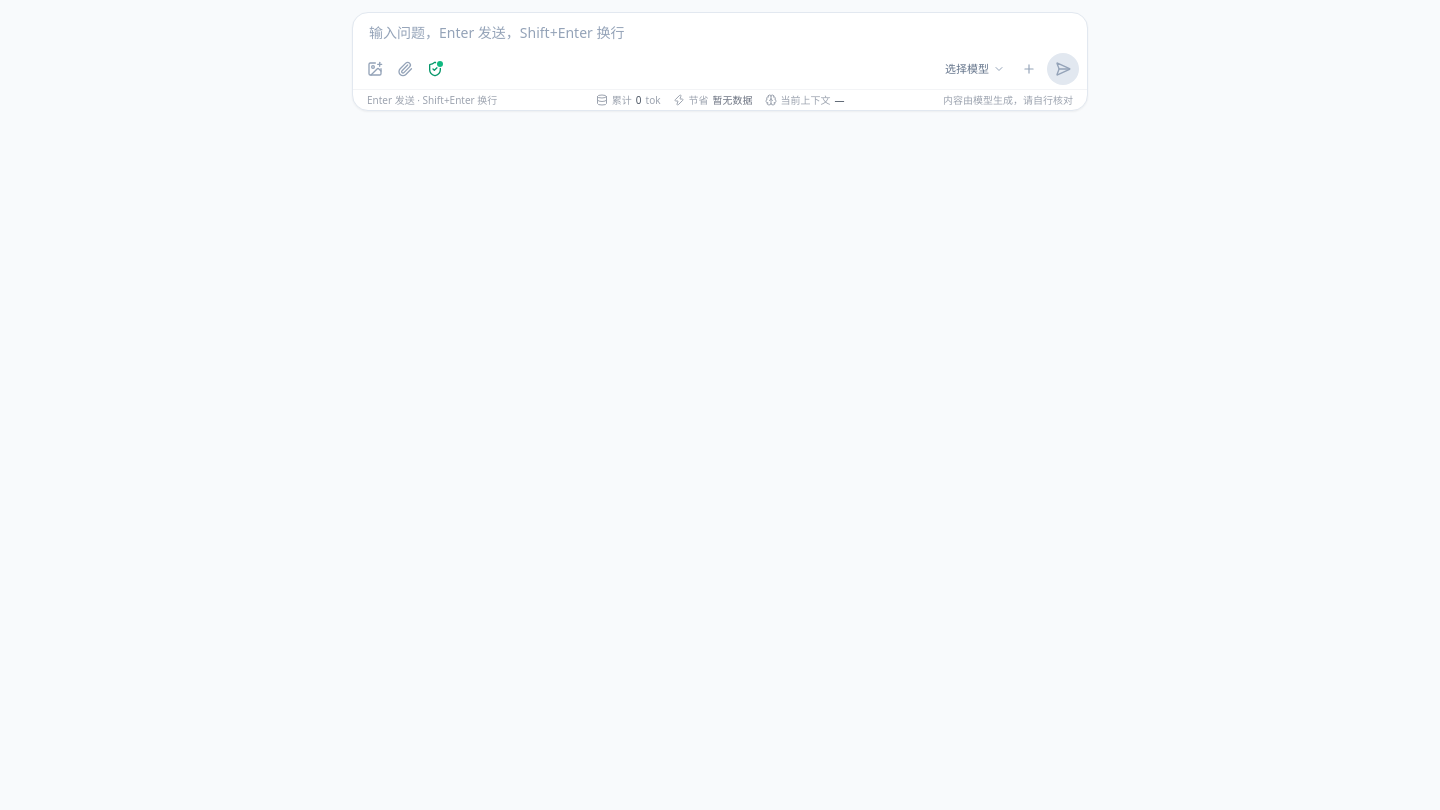
Test case: 目录选择器（点击浏览代替手打路径） › 逐级进入目录并「选择此文件夹」后回填到输入框
Click the button with test id "sandbox-badge". click: point(435, 69)
box: [421,55,449,83]
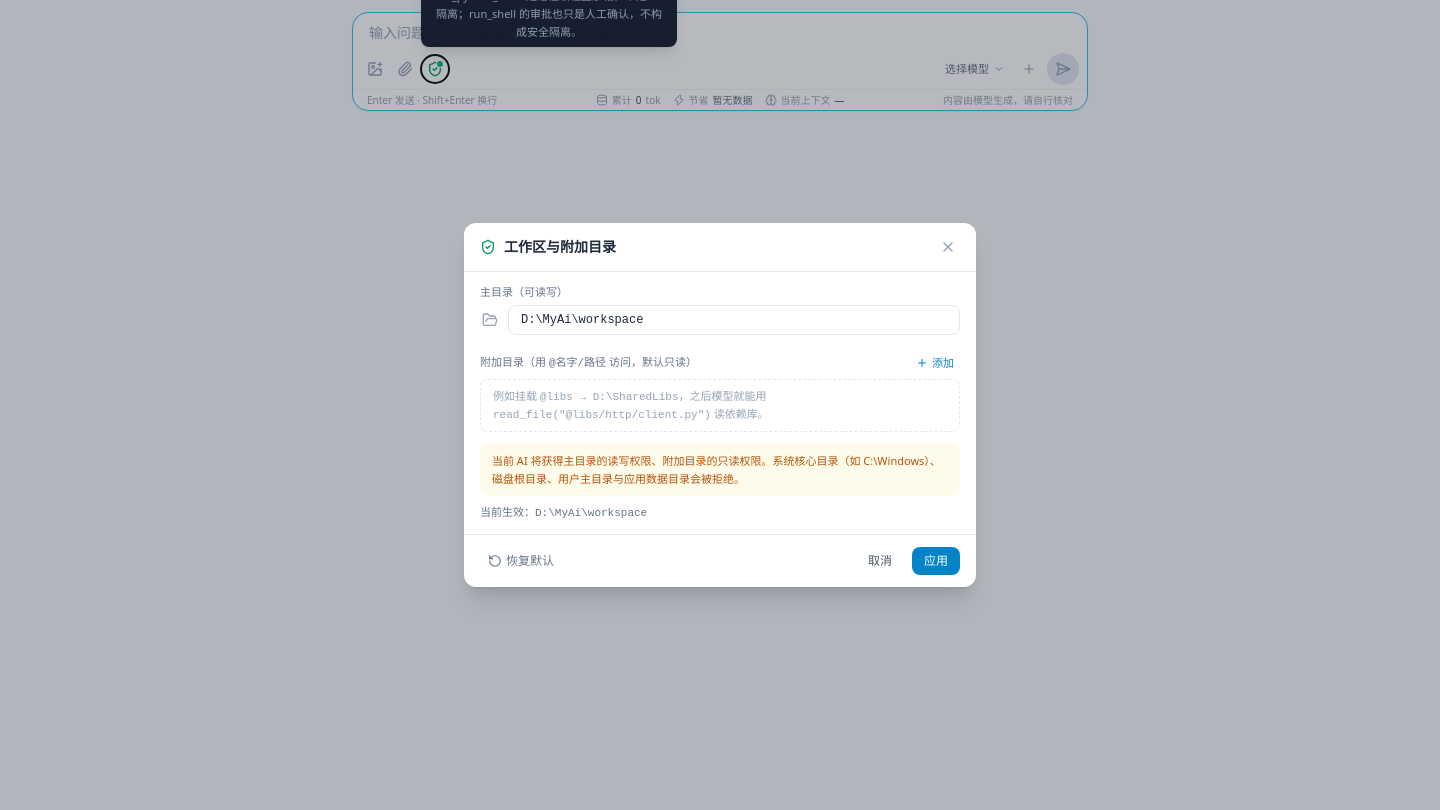
Click the button named "浏览选择主目录". click: point(490, 320)
box: [480,310,500,330]
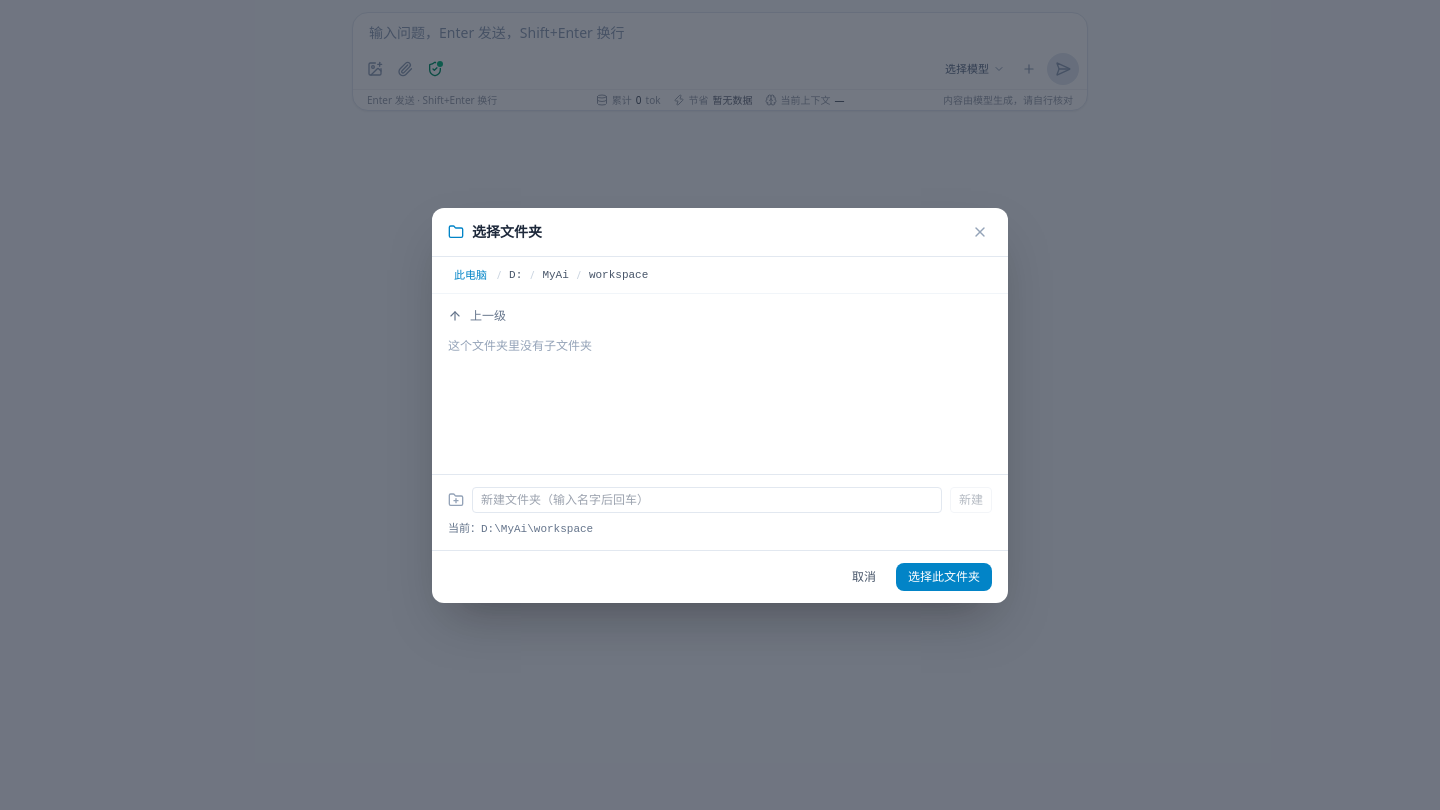
Click the button "此电脑". click: point(470, 275)
box: [448,264,493,285]
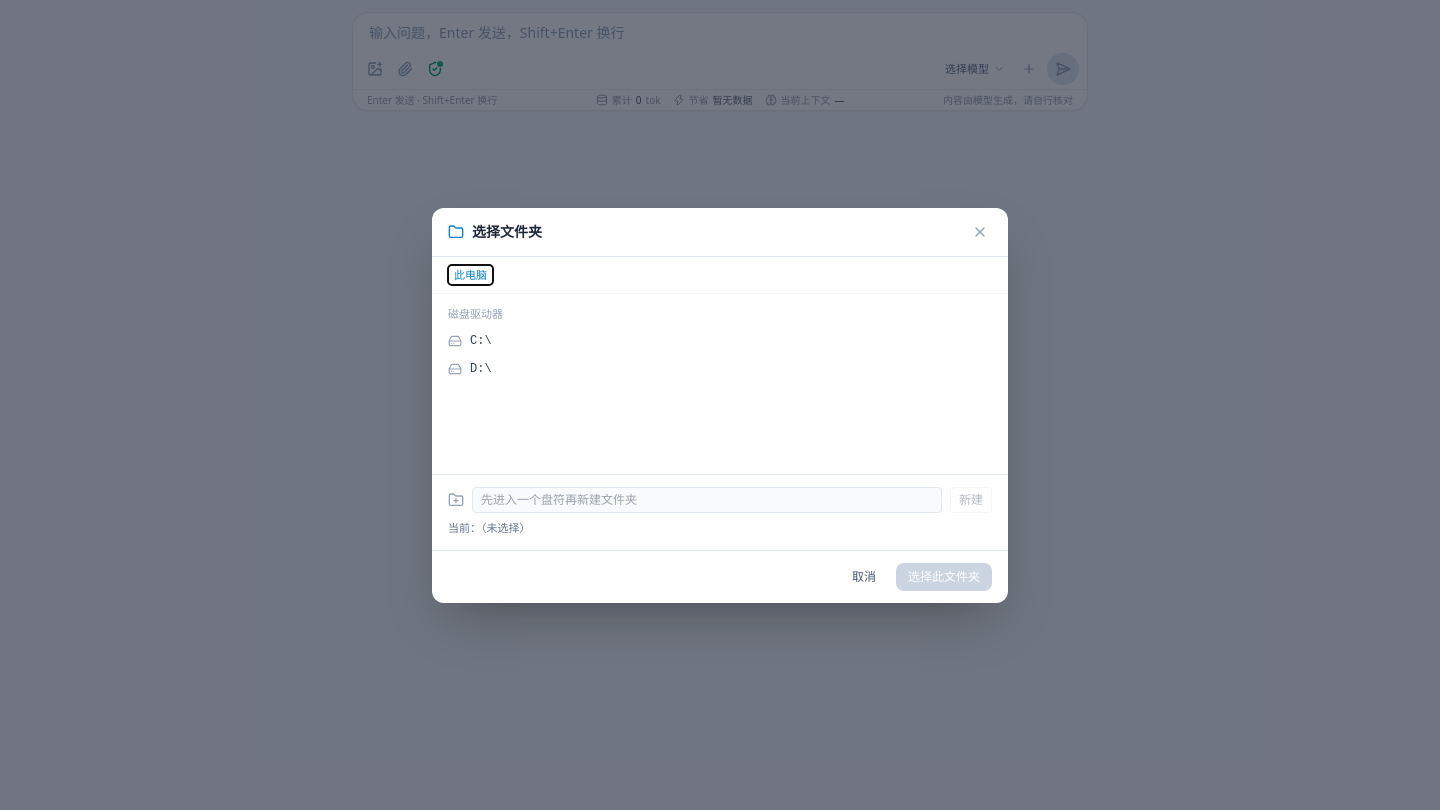
Click the button "D:\\". click: point(455, 368)
box: [440,354,1000,382]
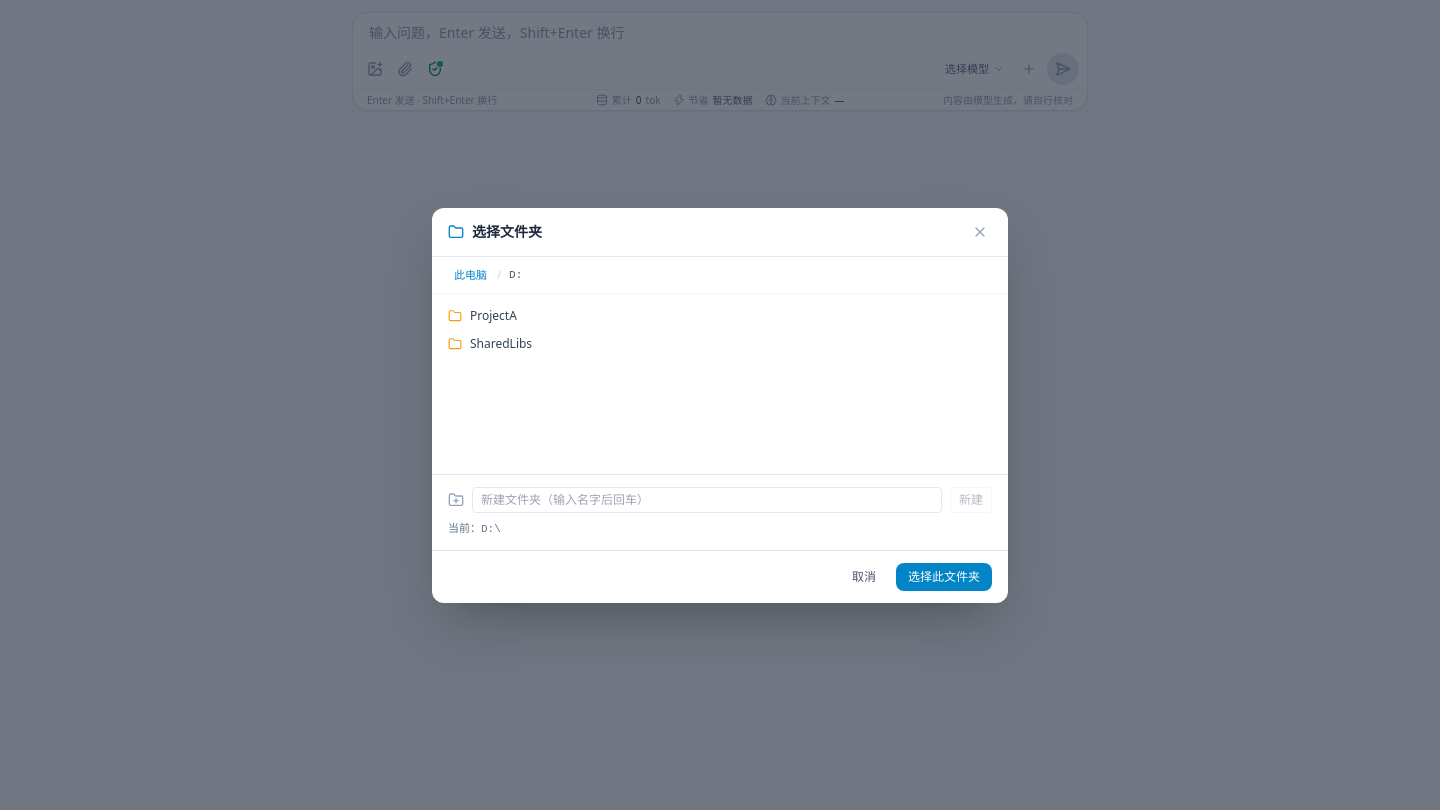
Click the button "ProjectA". click: point(493, 316)
box: [440,302,1000,330]
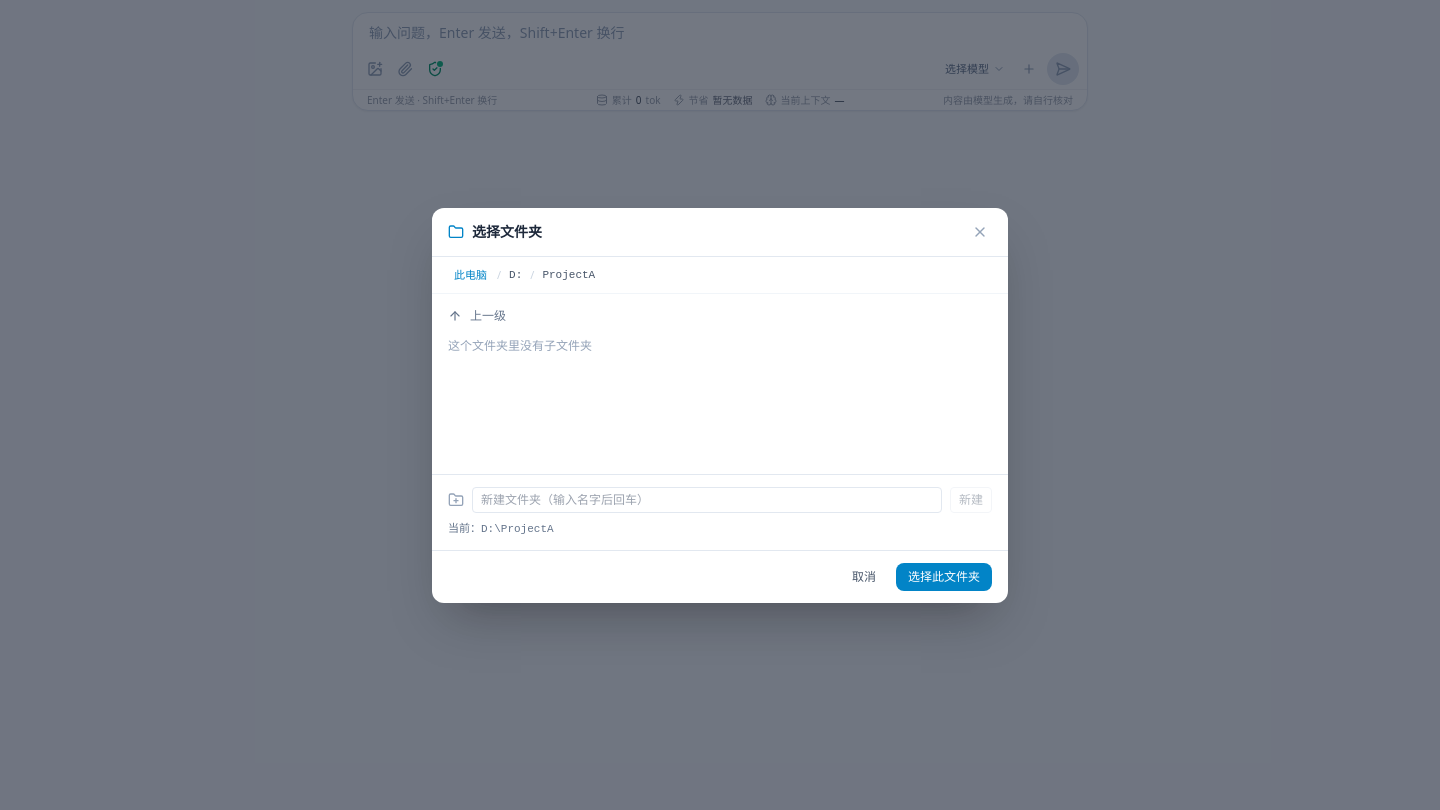
Click the button "选择此文件夹". click: point(944, 576)
box: [896,562,992,590]
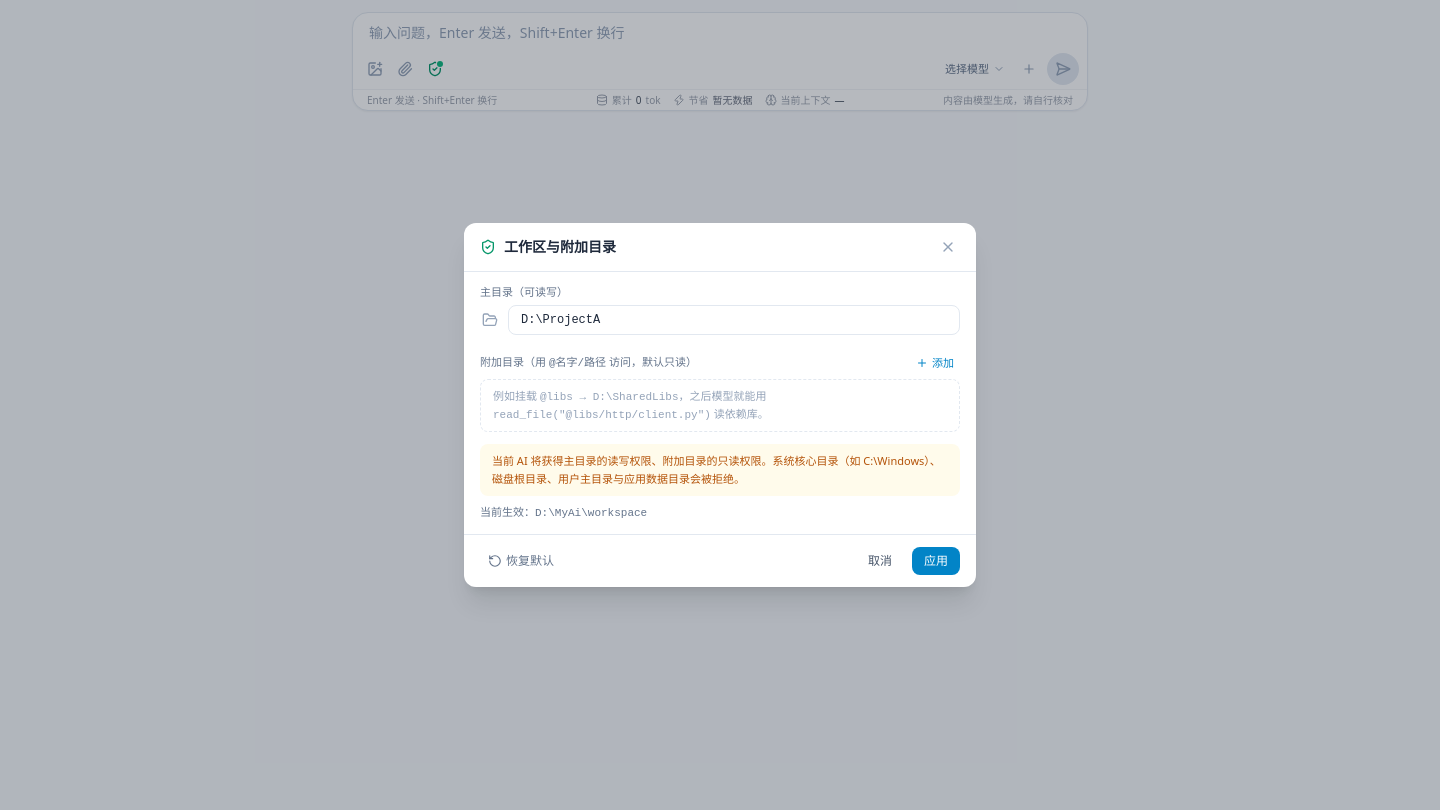
Result: the field named "工作区绝对路径" holds "D:\\ProjectA" at [508,305,960,335]
Result: the text "选择文件夹" is gone
